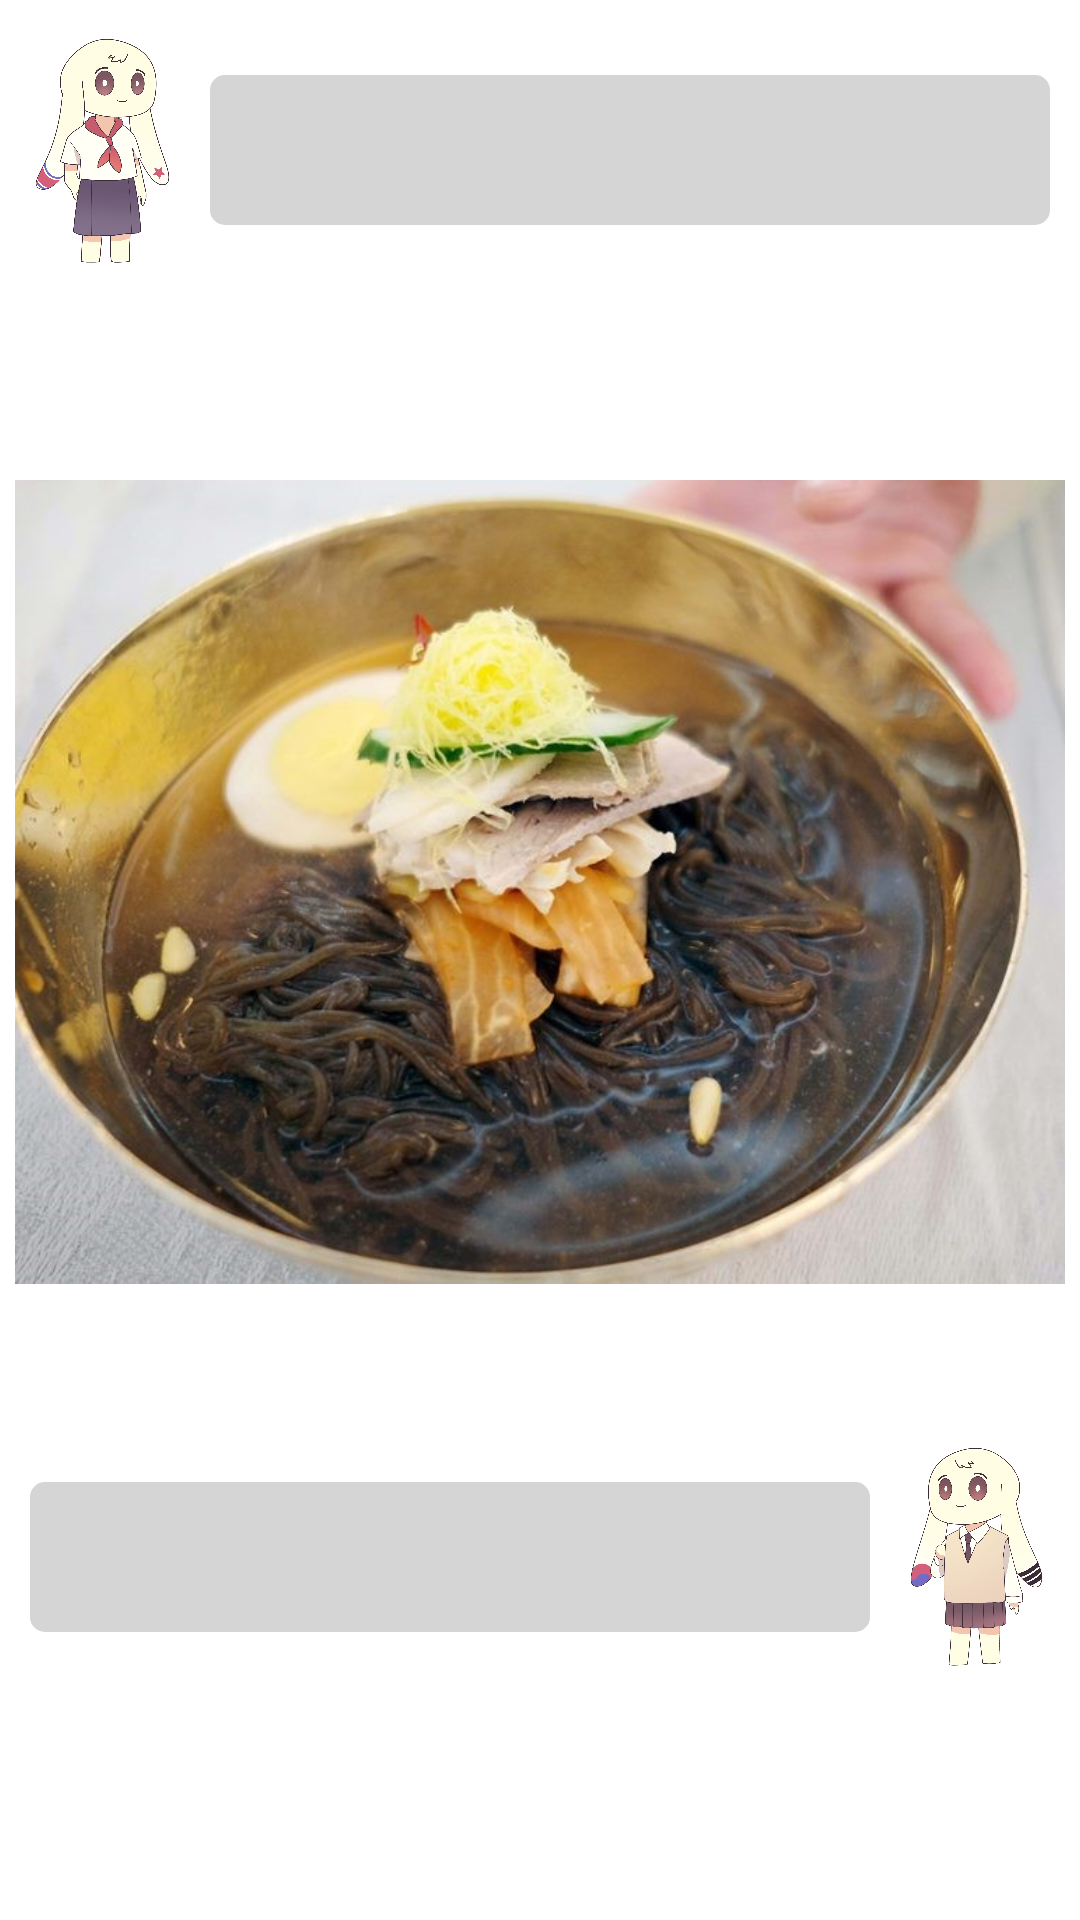

Screen size 1080px x 1920px. Icon name, then its center in pixels as (x=x, y=y):
north charac: (x=102, y=151)
south charac: (x=976, y=1557)
